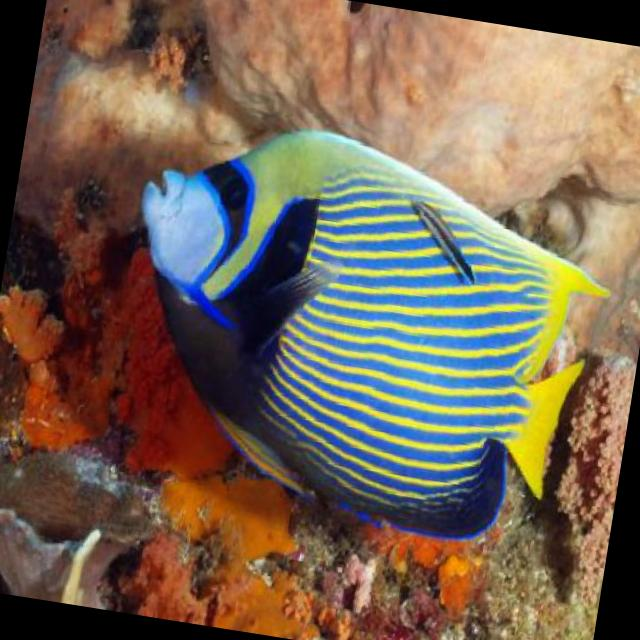AngelFish: (98, 105, 628, 556)
